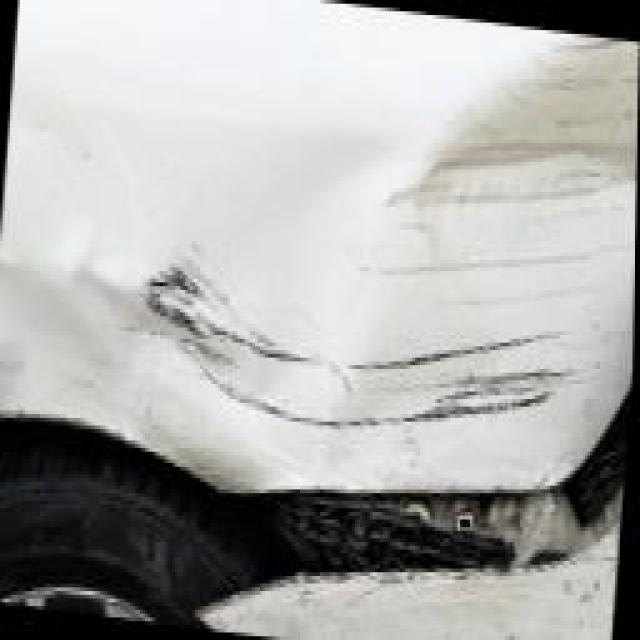Bumper: (192, 467, 620, 640)
Fender: (0, 0, 640, 523)
